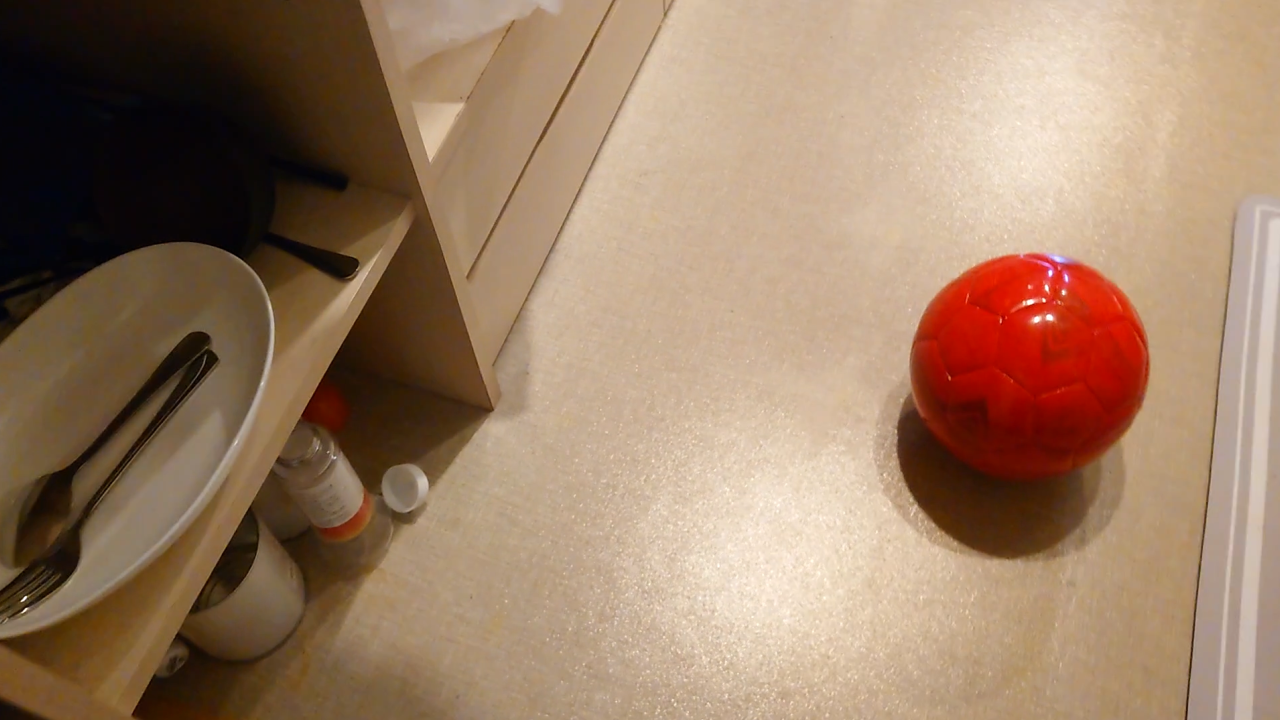red: (910, 250, 1150, 479)
